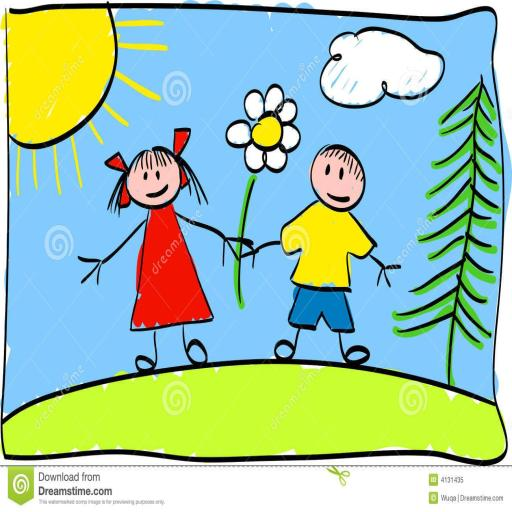person: (82, 124, 227, 384), (263, 142, 393, 358)
